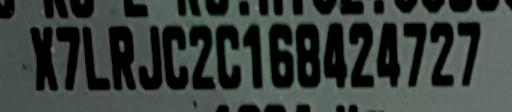letter: (26, 22, 64, 90), (186, 21, 222, 91), (344, 18, 380, 86), (424, 19, 460, 87), (104, 22, 140, 90), (210, 21, 244, 89), (160, 22, 194, 88), (397, 18, 429, 86), (454, 18, 486, 86), (265, 19, 297, 87), (372, 20, 404, 88), (78, 25, 112, 89), (293, 18, 323, 86), (320, 18, 350, 86), (53, 22, 83, 90), (240, 20, 268, 88), (135, 23, 163, 89)
